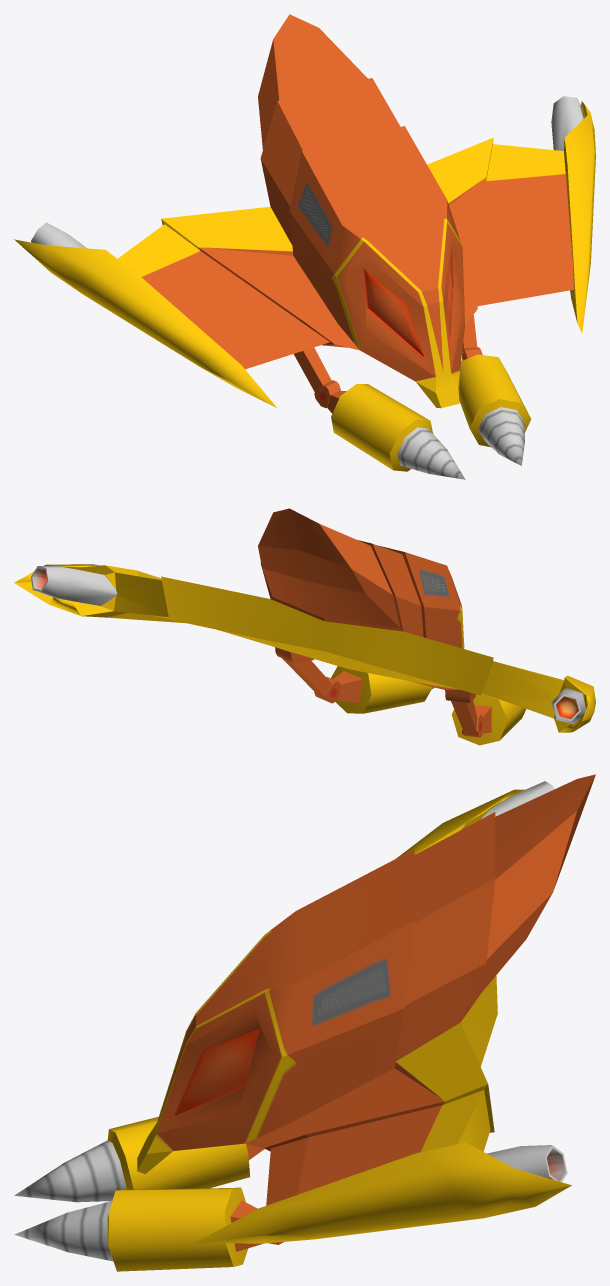
File: Driller.fbx
The picture shows the model from 3 angles, top to bottom: view 1: azimuth 30°, elevation 25°; view 2: azimuth 150°, elevation 25°; view 3: azimuth 270°, elevation 25°; orthographic projection. The views are drawn at different scales.
Parts seen in each view (by area): view 1: Driller:Driller1; view 2: Driller:Driller1; view 3: Driller:Driller1.
Boxes of the visible parts, x1,y1,x2,y2 form: Driller:Driller1: (14, 14, 595, 479); Driller:Driller1: (14, 508, 595, 745); Driller:Driller1: (14, 774, 595, 1271).
Size of the model in its own units: 541 by 297 by 337.
